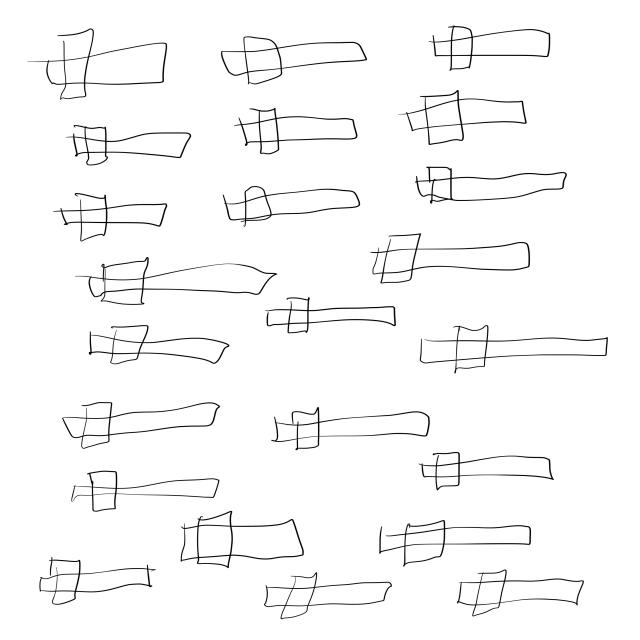Slider: (27, 21, 173, 108), (208, 18, 372, 88), (414, 323, 616, 379), (258, 396, 440, 452), (418, 16, 563, 84), (56, 460, 233, 515), (365, 234, 538, 288), (71, 314, 230, 371), (409, 158, 575, 212), (53, 400, 232, 450), (372, 517, 542, 568), (222, 100, 366, 157), (418, 448, 575, 500), (398, 88, 536, 147), (441, 568, 606, 617), (70, 259, 272, 299), (170, 510, 312, 566), (46, 116, 201, 166), (224, 173, 358, 230), (18, 554, 157, 606), (264, 571, 398, 621), (54, 188, 173, 243), (264, 296, 403, 336)
